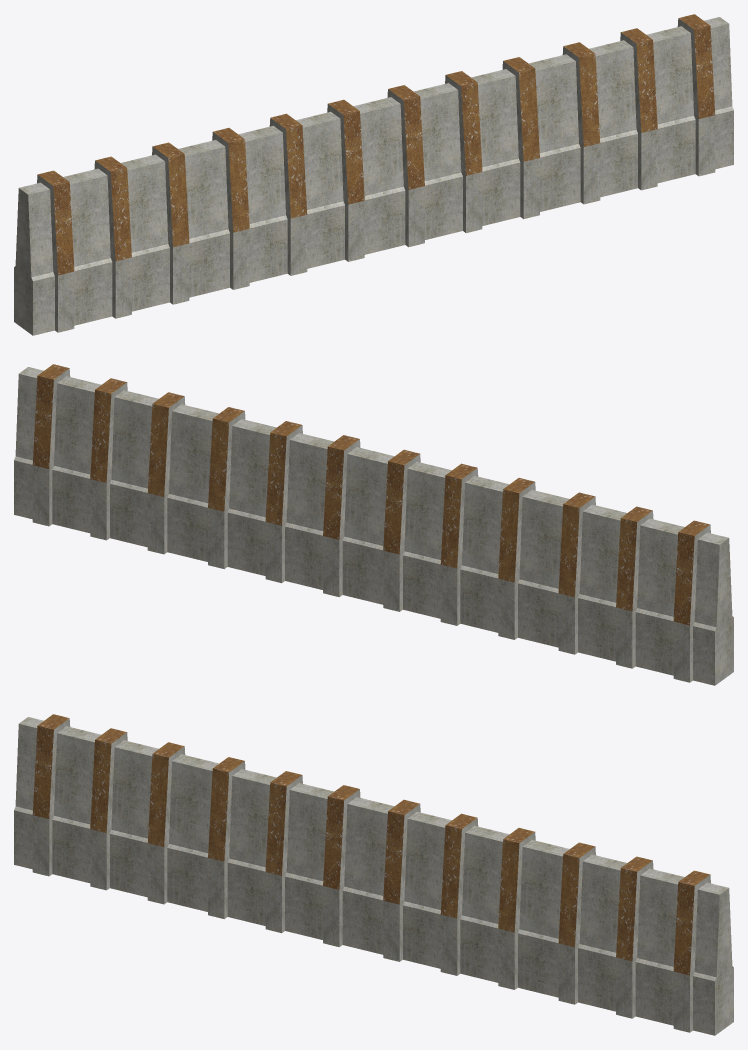
The model's file is mun_all_military_wall_med_rebl_32_s01_l0.fbx.
3 renders of one model, top to bottom at view 1: azimuth 30°, elevation 25°; view 2: azimuth 150°, elevation 25°; view 3: azimuth 330°, elevation 25°, orthographic.
Visible parts, largest first — view 1: mesh_node; view 2: mesh_node; view 3: mesh_node.
Part boxes in pixels (bbox=[...]): mesh_node: bbox=[14, 14, 733, 335]; mesh_node: bbox=[14, 364, 733, 685]; mesh_node: bbox=[14, 714, 733, 1035].
Size of the model in its own units: 32 by 6.25 by 2.
